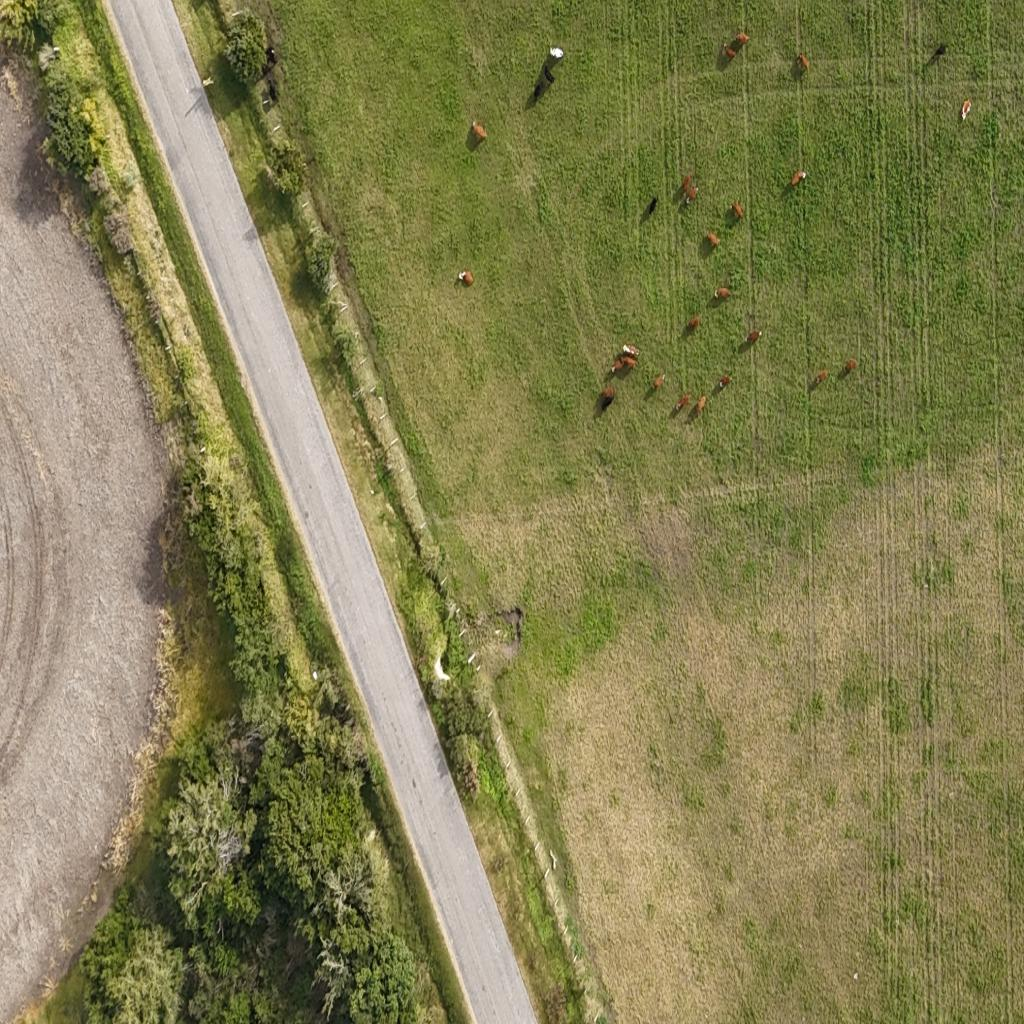cow: (264, 76, 278, 105), (472, 118, 488, 142), (612, 356, 631, 376), (458, 265, 474, 286), (644, 195, 658, 219), (621, 342, 637, 362), (543, 64, 557, 86), (960, 97, 972, 122), (746, 327, 762, 345), (735, 32, 749, 52), (684, 172, 697, 193), (932, 42, 947, 60), (265, 47, 277, 69), (602, 386, 615, 406), (676, 394, 690, 412), (533, 80, 544, 102), (683, 188, 695, 208), (695, 396, 707, 416), (723, 44, 736, 62), (706, 232, 720, 248), (792, 170, 806, 186), (626, 353, 638, 371), (652, 372, 664, 390), (715, 286, 730, 300), (718, 374, 731, 390), (687, 316, 701, 330), (844, 358, 856, 374), (817, 368, 829, 384), (550, 46, 563, 60), (799, 53, 809, 71), (733, 201, 743, 218), (458, 270, 466, 282)
